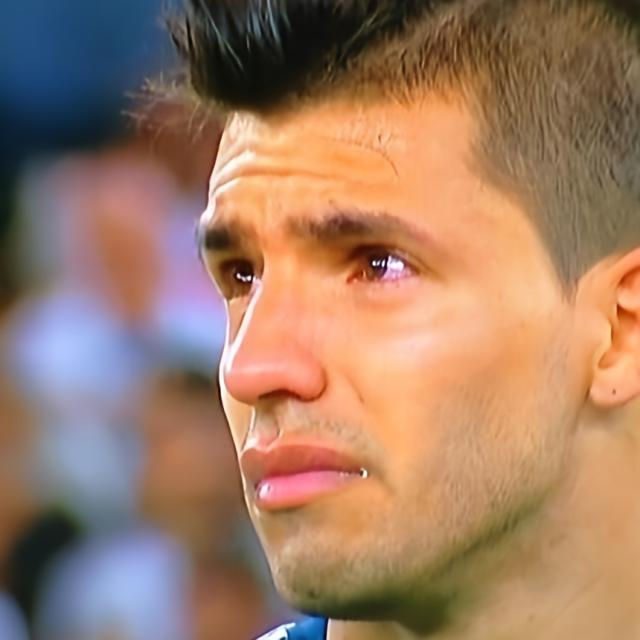sad: (195, 100, 580, 623)
